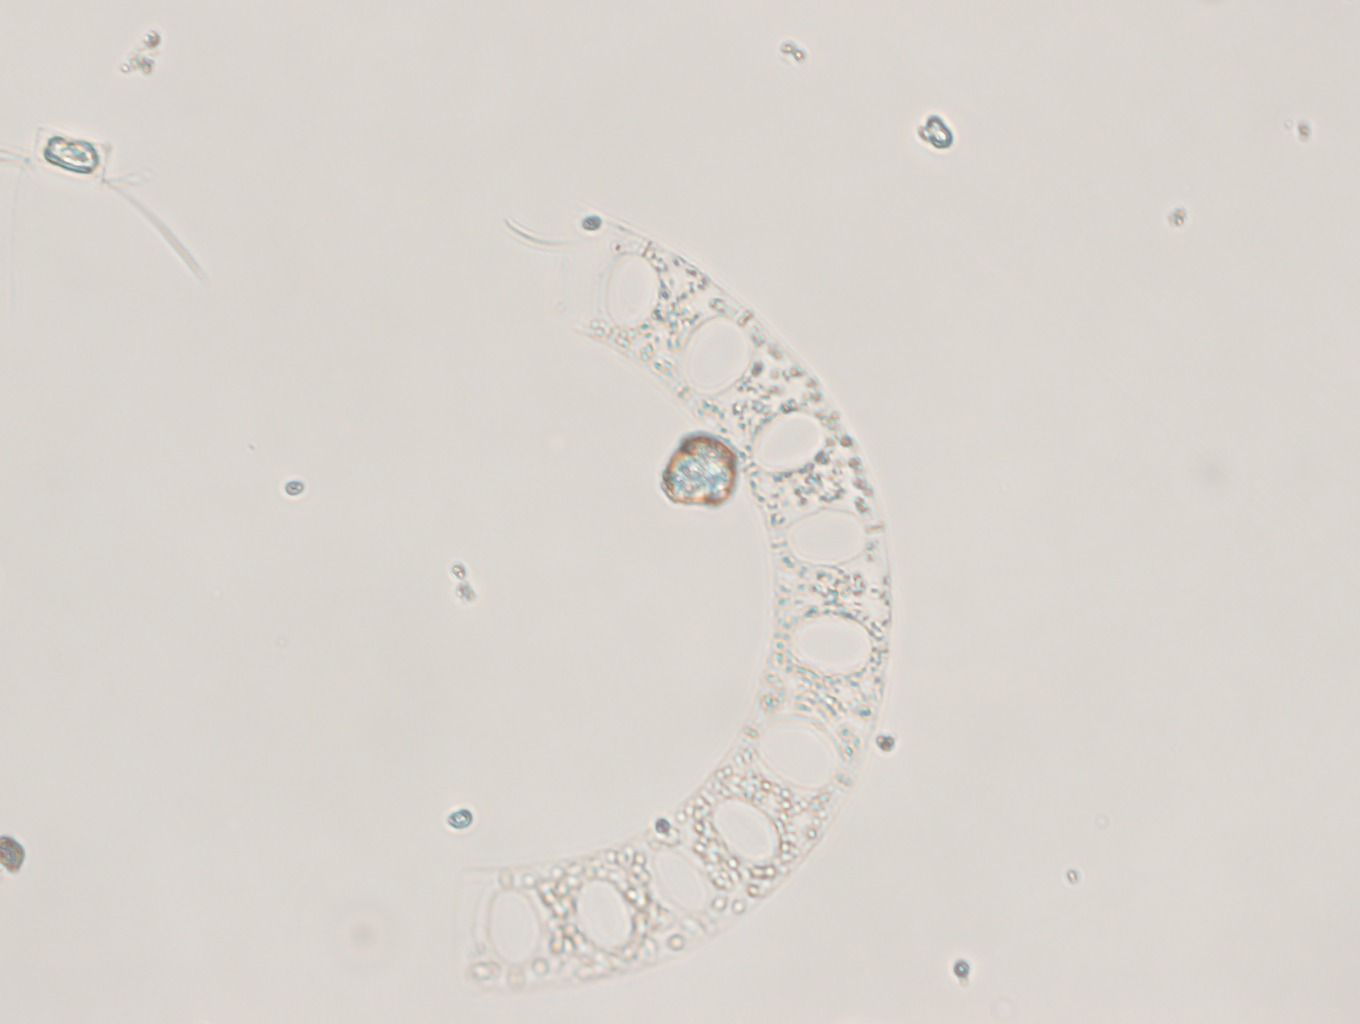chaetoceros: (1, 123, 224, 283)
eucampia: (445, 205, 903, 994)
